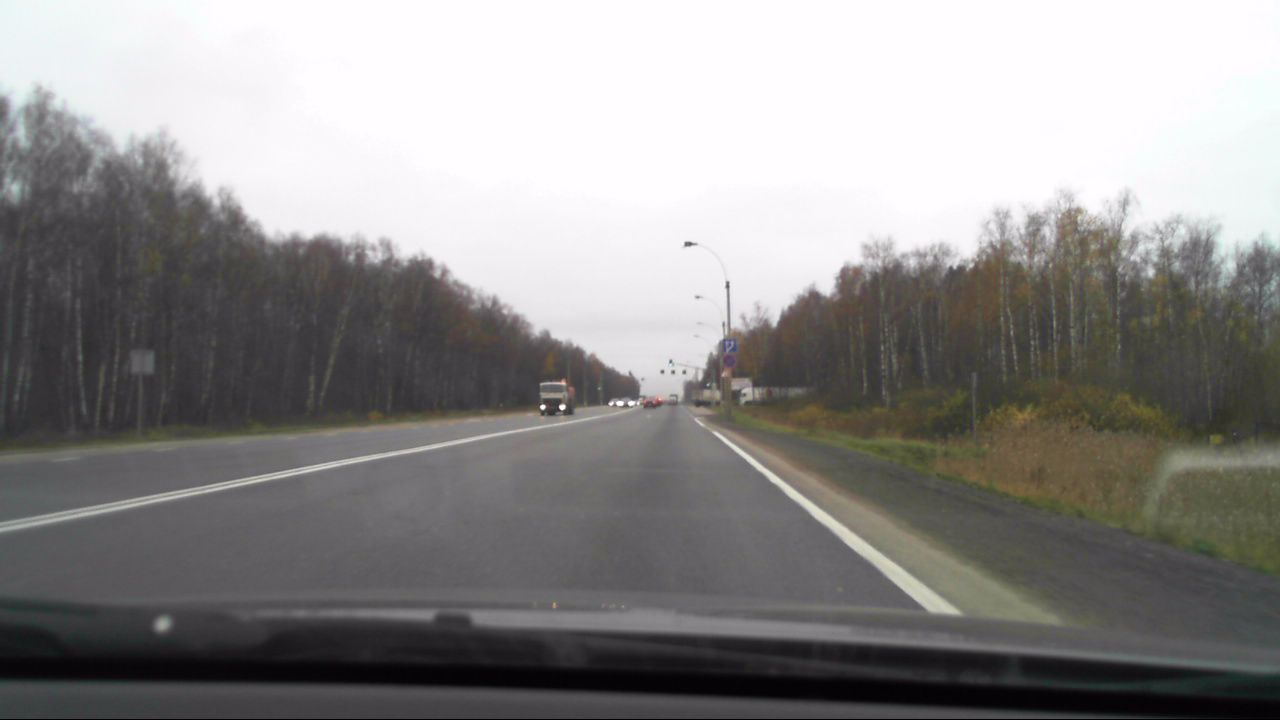No Parking: (720, 353, 736, 369)
